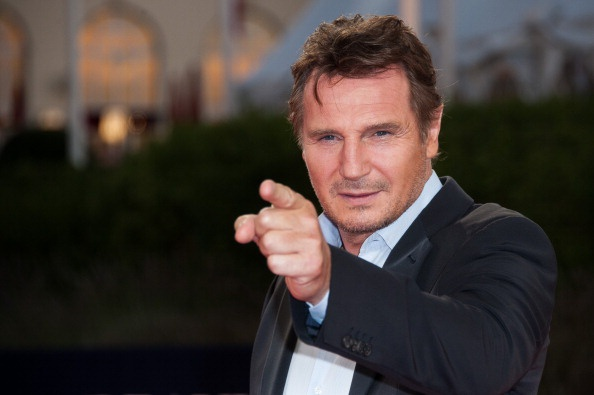bad: (296, 96, 425, 225)
